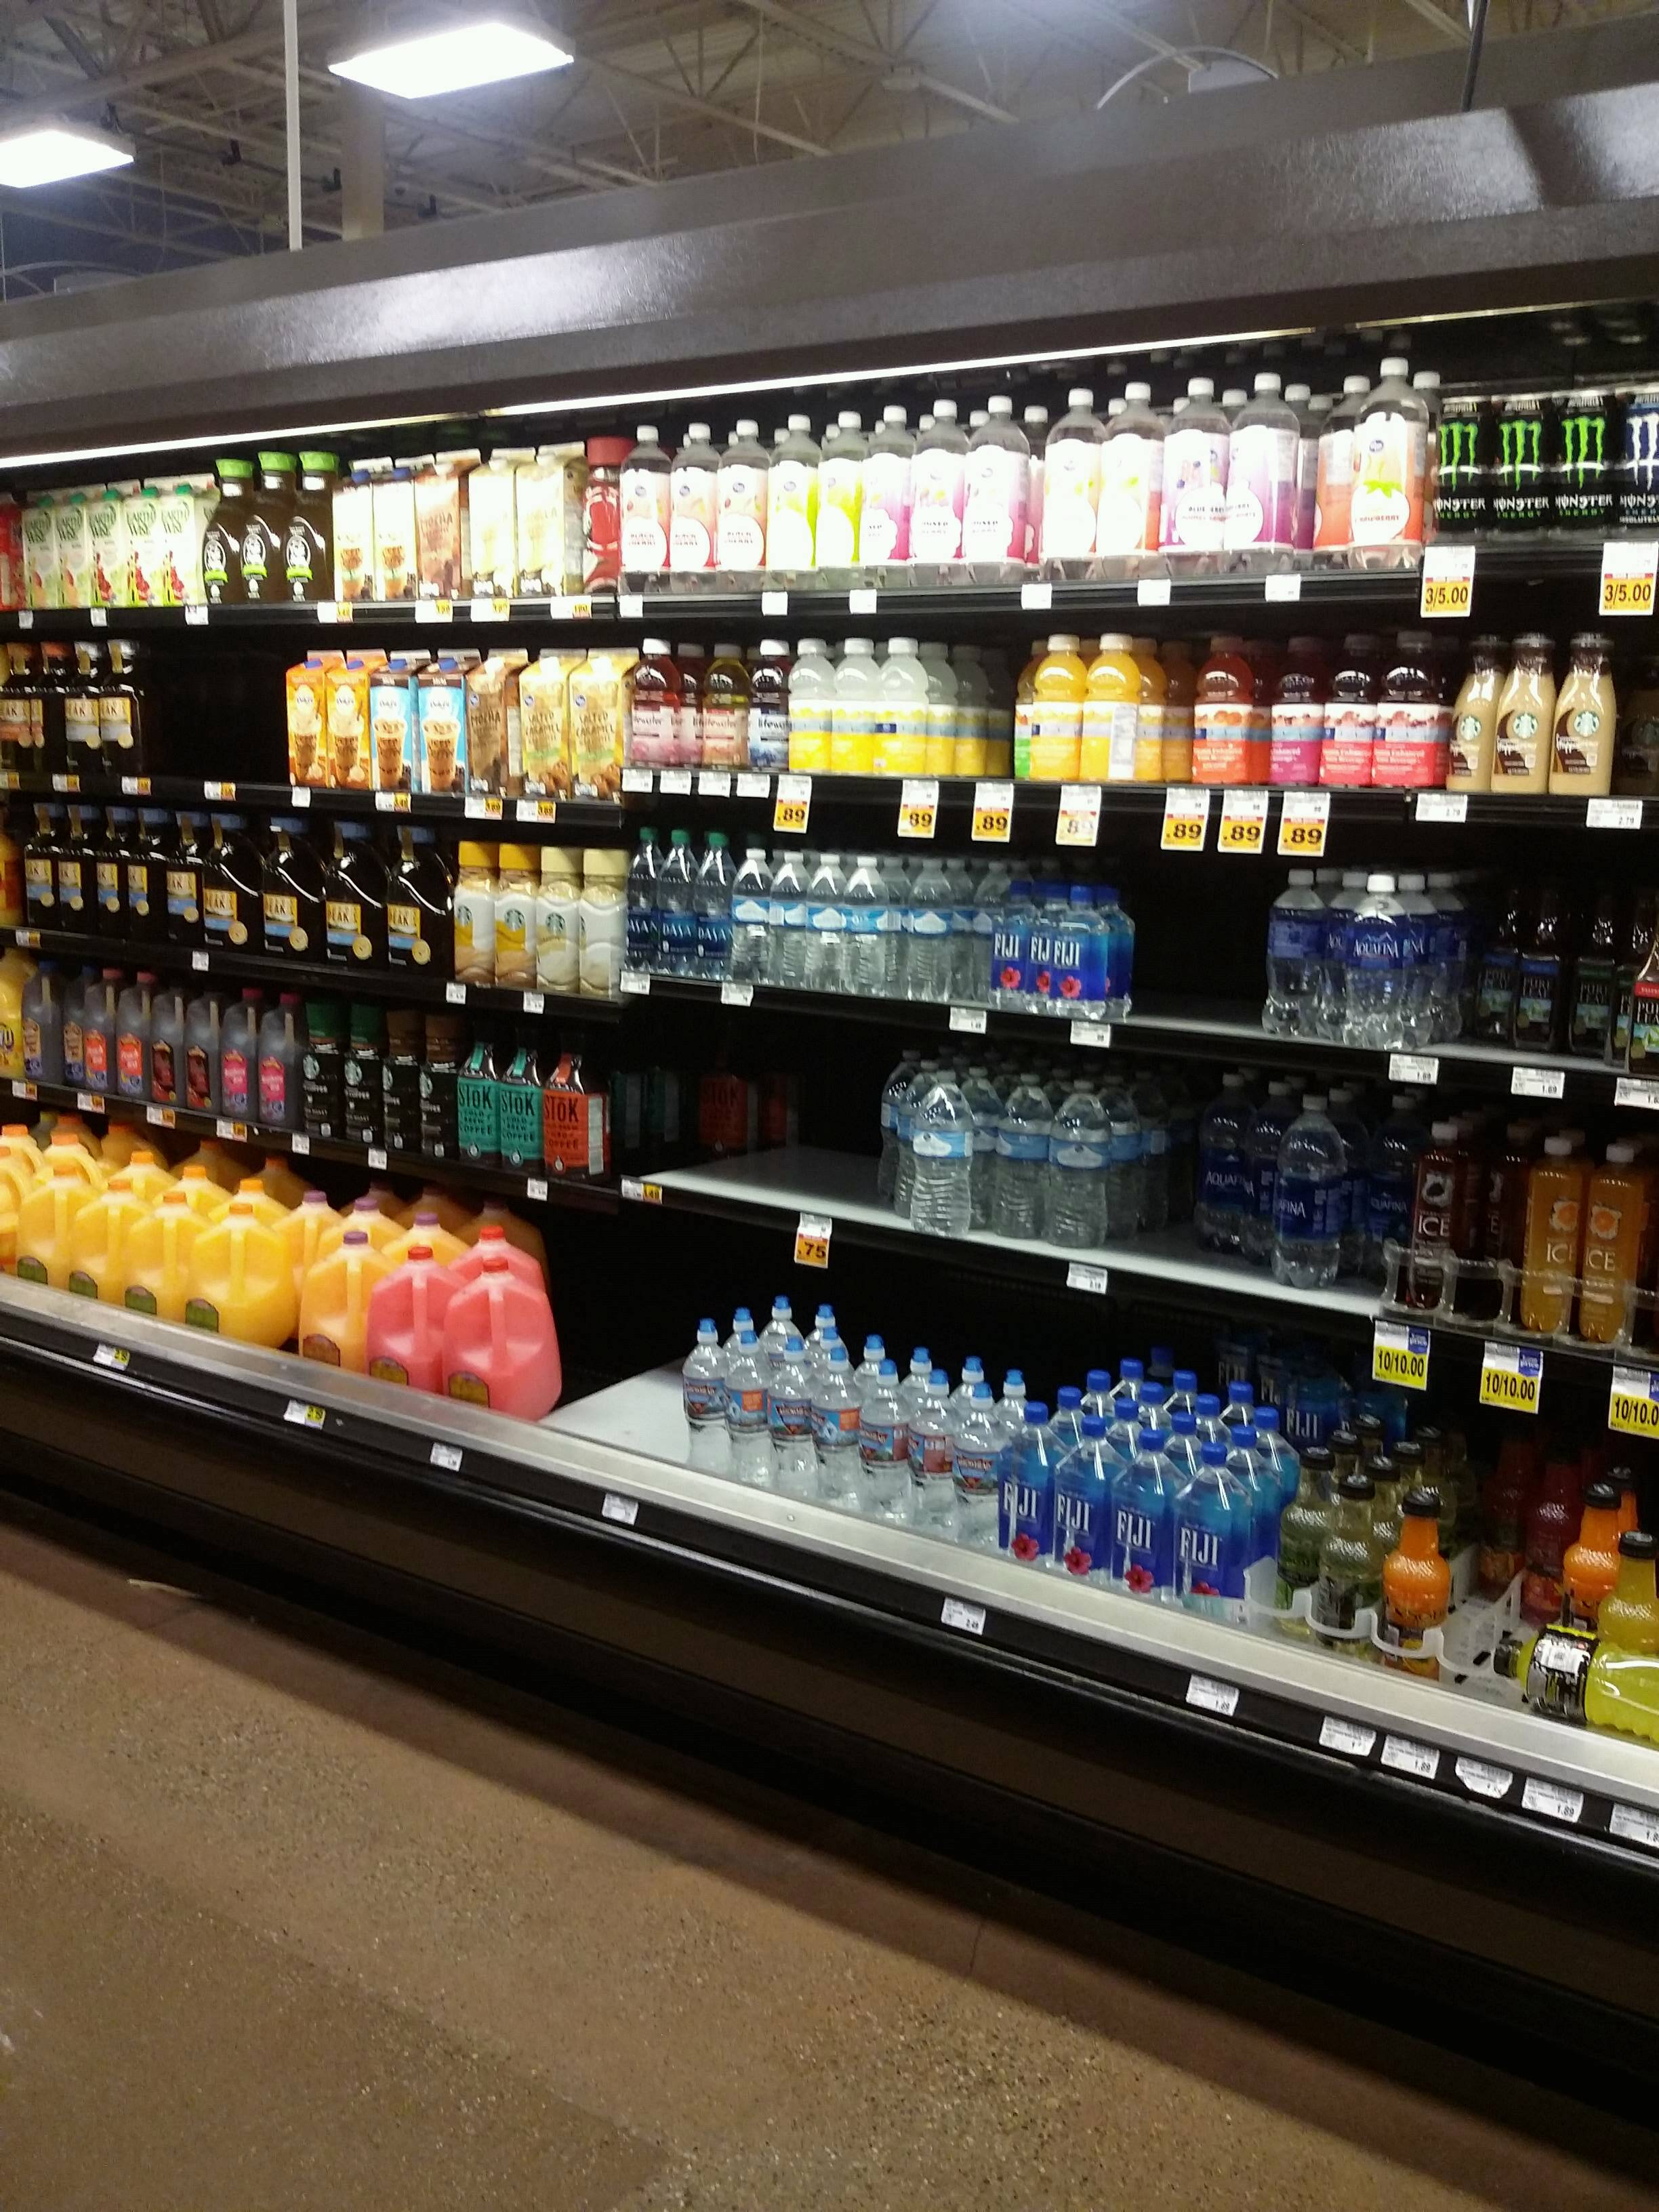Misplacement: (1401, 888, 1622, 1061), (1114, 1062, 1279, 1280), (1424, 1482, 1520, 1703)
Out-of-stock: (615, 1024, 880, 1204), (530, 1211, 687, 1465), (1124, 867, 1265, 1038), (141, 637, 286, 779)
